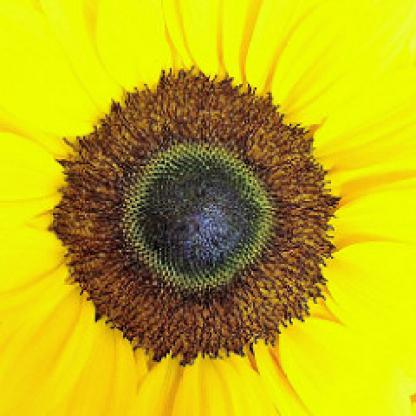SUN FLOWER: (24, 32, 389, 396)
